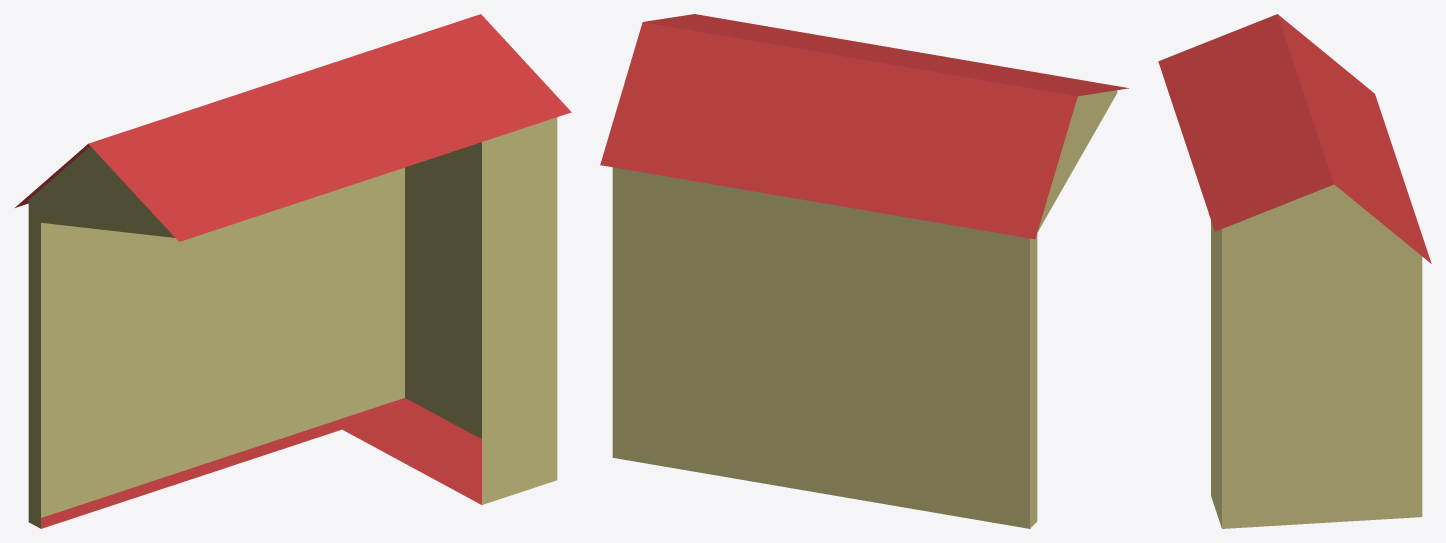
3 renders of one model, left to right at view 1: azimuth 30°, elevation 25°; view 2: azimuth 150°, elevation 25°; view 3: azimuth 270°, elevation 25°, orthographic. The views are drawn at different scales.
Size of the model in its own units: 12.95 by 8.17 by 11.25.
